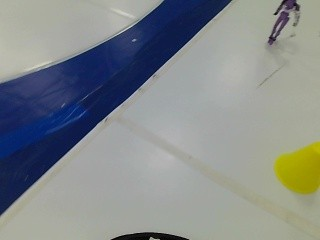cone: (270, 140, 318, 195)
pedestrian: (262, 0, 302, 51)
